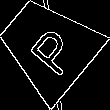P_NW: (17, 16, 78, 77)
